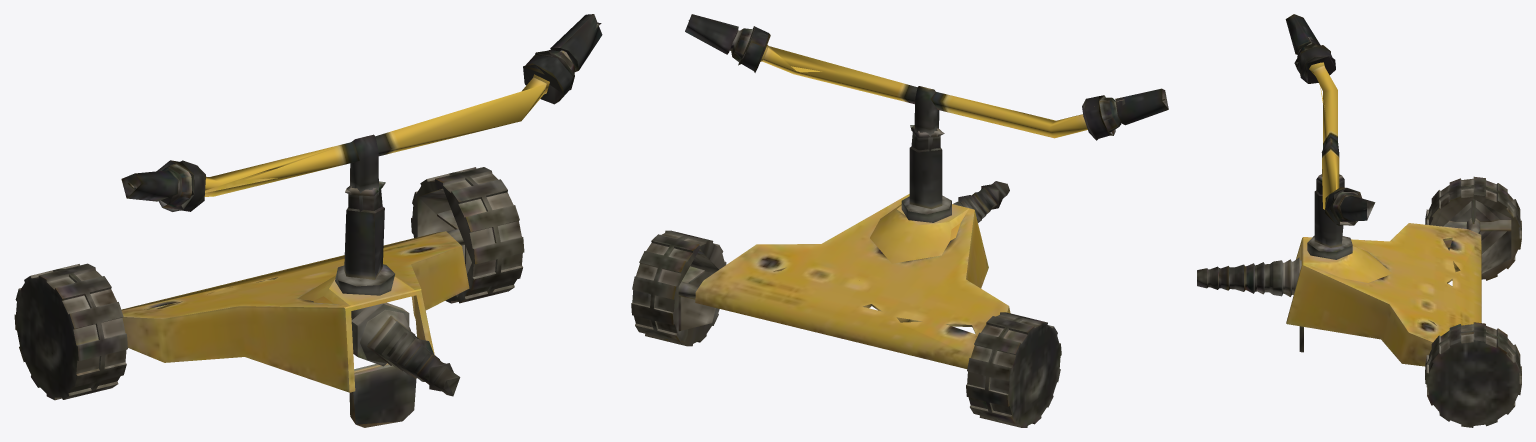
Rendered from garden_sprinkler_01.glb.
3 views of the same model, side by side, from view 1: azimuth 30°, elevation 25°; view 2: azimuth 150°, elevation 25°; view 3: azimuth 270°, elevation 25° (orthographic). The views are drawn at different scales.
Visible parts, largest first — view 1: garden_sprinkler_01_body_main, garden_sprinkler_01_body_main_lo; view 2: garden_sprinkler_01_body_main, garden_sprinkler_01_body_main_lo; view 3: garden_sprinkler_01_body_main, garden_sprinkler_01_body_main_lo.
Part boxes in pixels (x1,y1,x2,y2): garden_sprinkler_01_body_main: [14, 14, 602, 427]; garden_sprinkler_01_body_main_lo: [19, 42, 575, 400]; garden_sprinkler_01_body_main: [631, 14, 1168, 427]; garden_sprinkler_01_body_main_lo: [631, 26, 1115, 427]; garden_sprinkler_01_body_main: [1197, 14, 1521, 402]; garden_sprinkler_01_body_main_lo: [1197, 14, 1521, 427].
Size of the model in its own units: 0.3492 by 0.2022 by 0.2491.
1 material, 1 textured.
